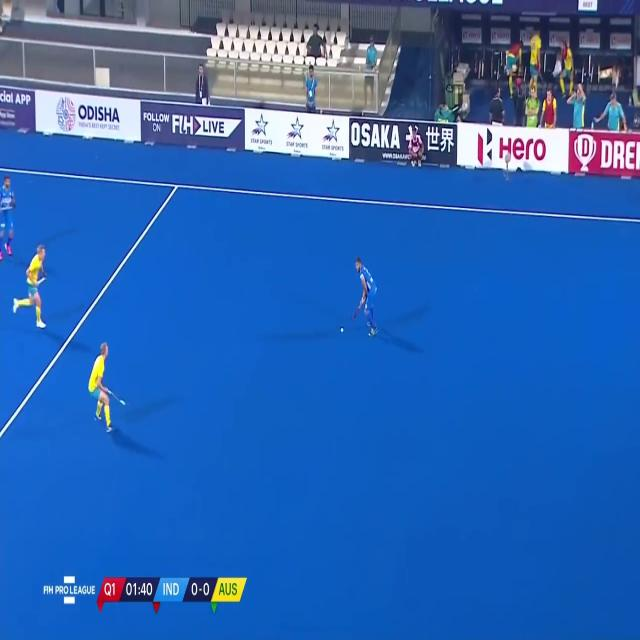ball: (337, 319, 346, 344)
